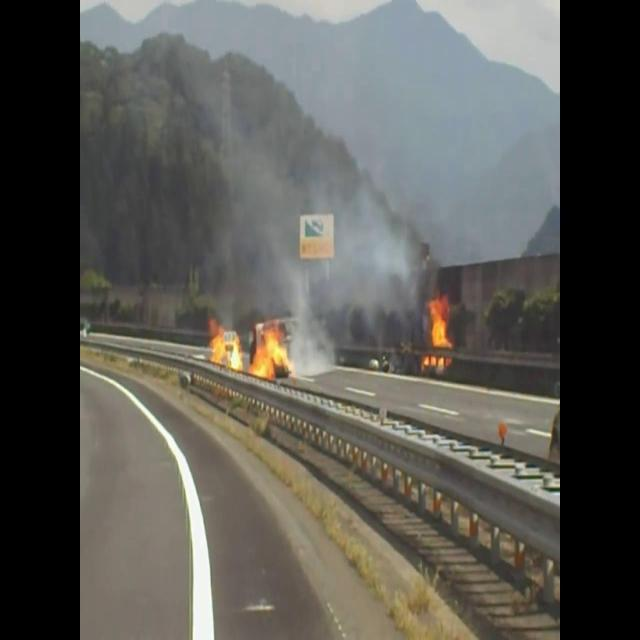Fire: (419, 288, 456, 372), (249, 324, 287, 378), (208, 319, 240, 369)
